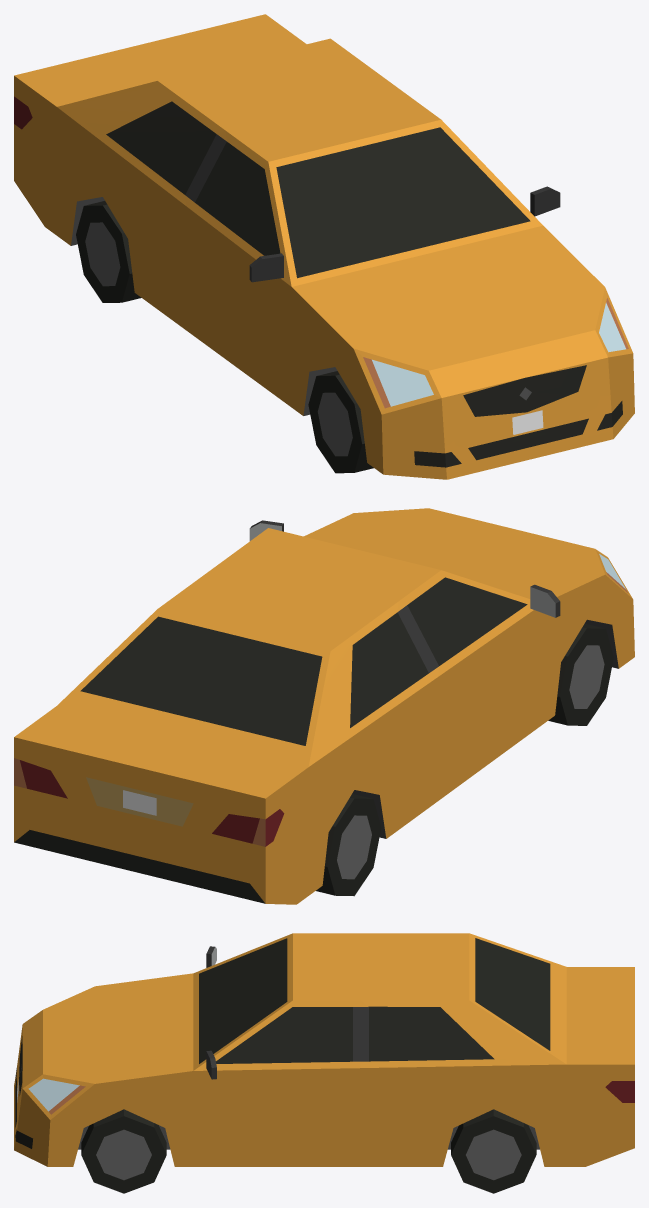
The model's file is Veh_Sedan_03_Yellow.glb.
3 renders of one model, top to bottom at view 1: azimuth 30°, elevation 25°; view 2: azimuth 150°, elevation 25°; view 3: azimuth 270°, elevation 25°, orthographic. The views are drawn at different scales.
Parts seen in each view (by area): view 1: Sedan_03_Yellow, Wheel_FR, Wheel_RR; view 2: Sedan_03_Yellow, Wheel_FR, Wheel_RR; view 3: Sedan_03_Yellow, Wheel_RL, Wheel_FL.
Boxes of the visible parts, box(x1,y1,x2,y2) form: Sedan_03_Yellow: box(14, 14, 634, 479); Wheel_FR: box(308, 371, 373, 473); Wheel_RR: box(76, 201, 141, 302); Sedan_03_Yellow: box(14, 508, 634, 904); Wheel_FR: box(548, 623, 613, 725); Wheel_RR: box(316, 793, 381, 896); Sedan_03_Yellow: box(14, 933, 634, 1166); Wheel_RL: box(451, 1109, 536, 1193); Wheel_FL: box(81, 1109, 166, 1193).
Size of the model in its own units: 1.19 by 0.8272 by 2.61.
Materials: 1 (1 with a texture image).
